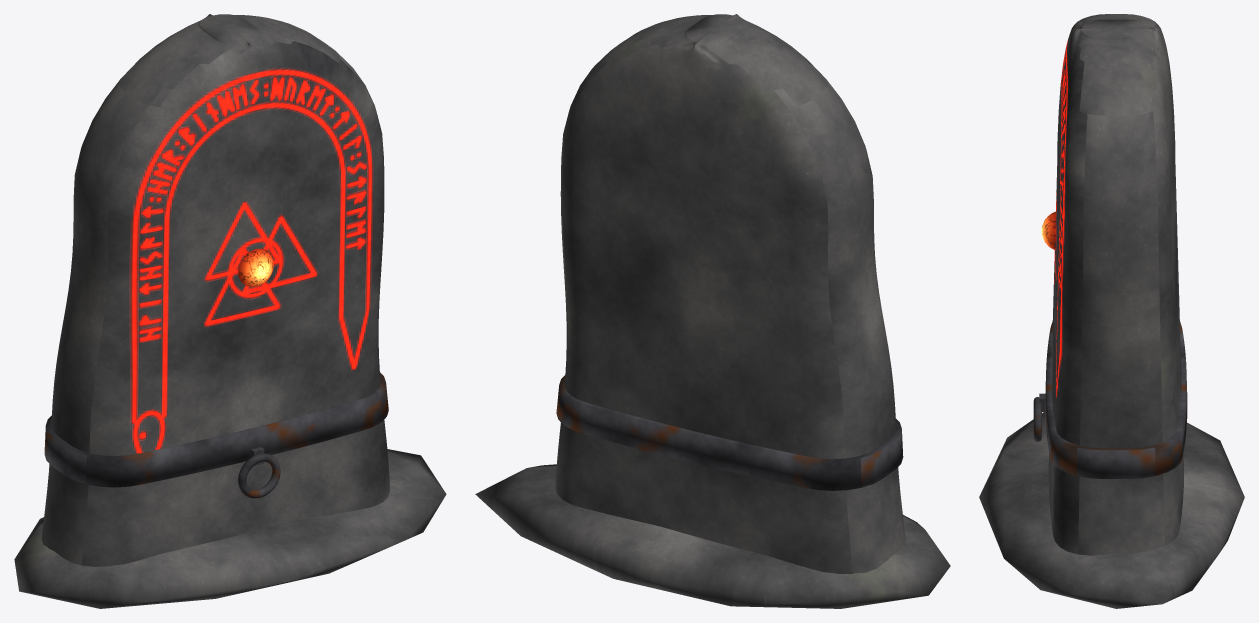
The model's file is bindingstone.glb.
3 renders of one model, left to right at view 1: azimuth 30°, elevation 25°; view 2: azimuth 150°, elevation 25°; view 3: azimuth 270°, elevation 25°, orthographic. The views are drawn at different scales.
Parts seen in each view (by area): view 1: stone, footing, band, core, ring; view 2: stone, footing, band; view 3: stone, footing, band, core, ring.
Part boxes in pixels (x1,y1,x2,y2): stone: [41, 14, 389, 566]; footing: [14, 449, 446, 608]; band: [44, 372, 388, 487]; core: [238, 248, 273, 286]; ring: [238, 453, 280, 498]; stone: [555, 14, 905, 573]; footing: [475, 464, 950, 608]; band: [556, 375, 903, 490]; stone: [1048, 14, 1183, 555]; footing: [979, 412, 1244, 608]; band: [1045, 322, 1187, 478]; core: [1041, 211, 1055, 249]; ring: [1033, 397, 1041, 441].
Size of the model in its own units: 1.25 by 1.46 by 0.7048.
Materials: 1 (1 with a texture image).
